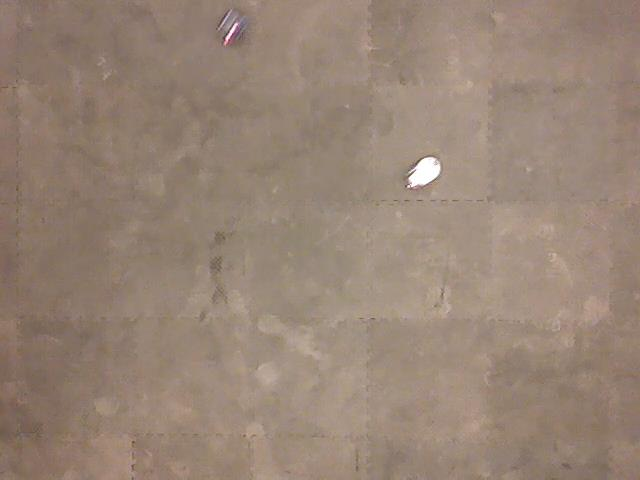Agent: (402, 153, 443, 193), (213, 6, 248, 48)
